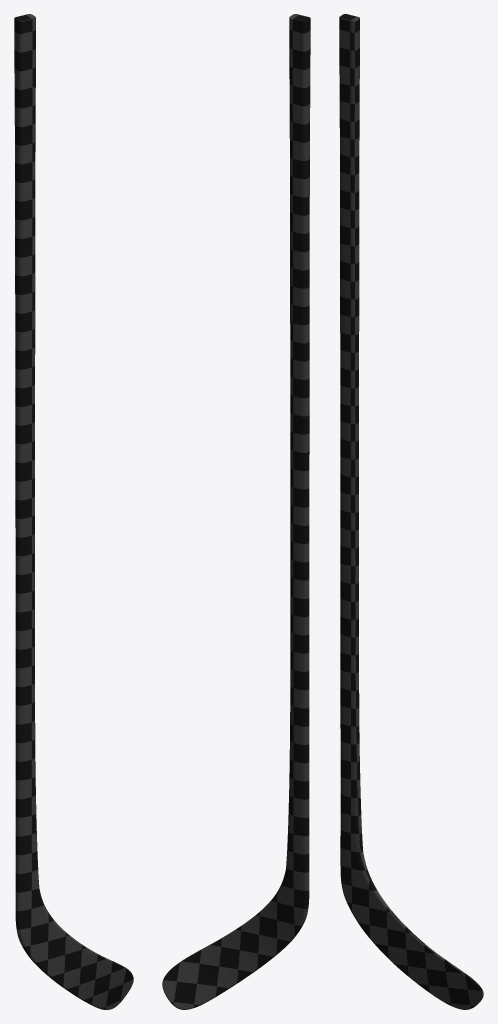
Rendered from P88-SBO.glb.
3 renders of one model, left to right at view 1: azimuth 30°, elevation 25°; view 2: azimuth 150°, elevation 25°; view 3: azimuth 330°, elevation 25°, orthographic. The views are drawn at different scales.
Parts seen in each view (by area): view 1: geometry_0; view 2: geometry_0; view 3: geometry_0.
Boxes of the visible parts, box(x1,y1,x2,y2) form: geometry_0: box(14, 14, 133, 1009); geometry_0: box(162, 14, 310, 1009); geometry_0: box(339, 14, 483, 1009).
Size of the model in its own units: 224 by 1650 by 62.8.
Materials: 1 (1 with a texture image).
